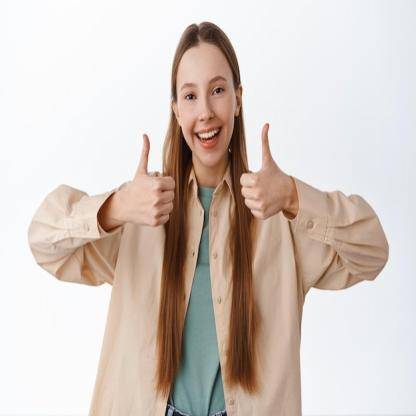thumb_up: (237, 118, 288, 220), (129, 131, 176, 230)
